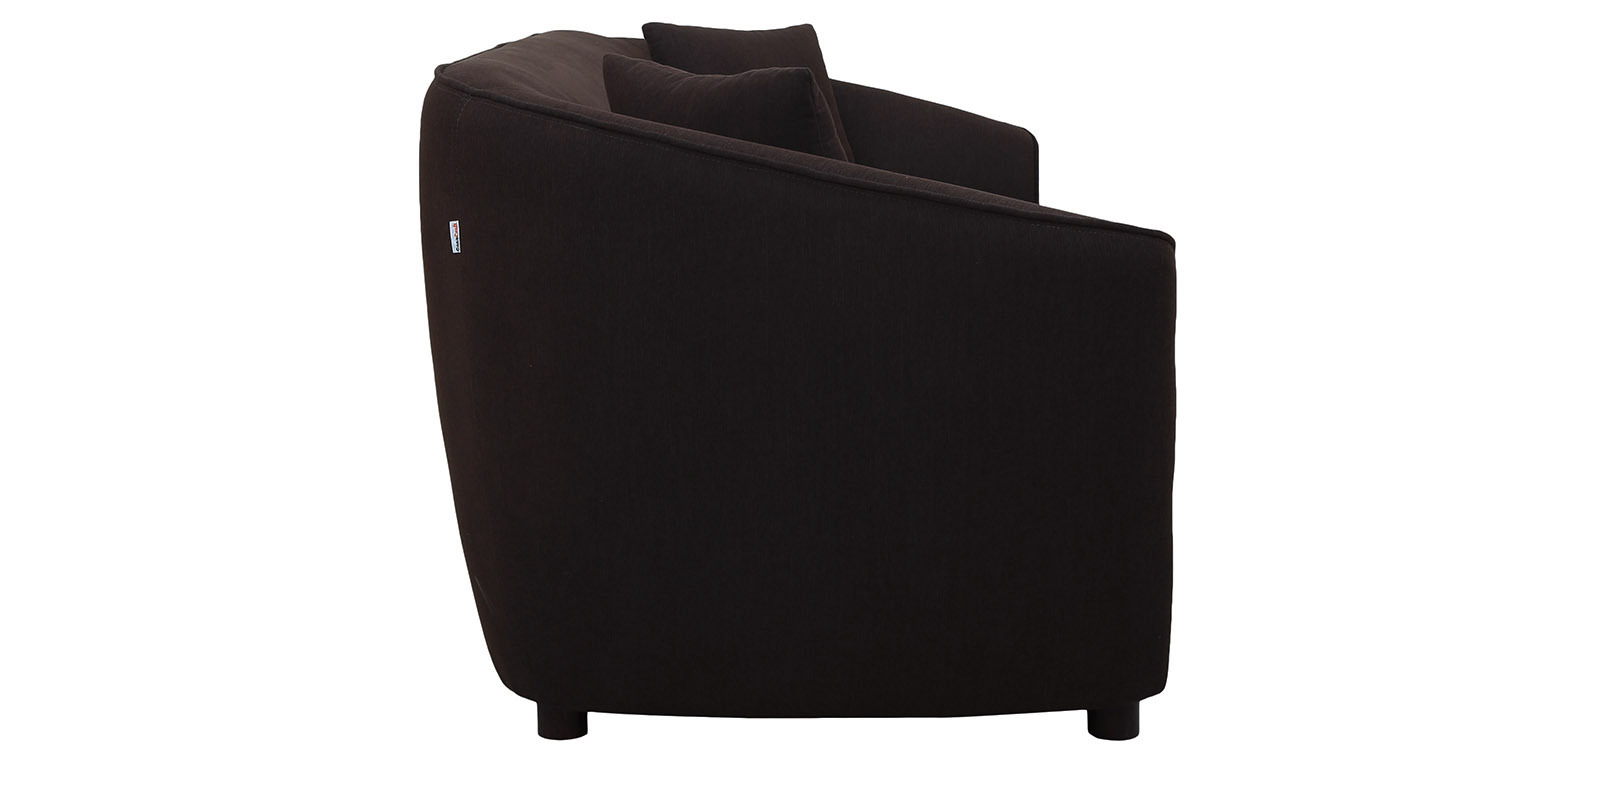Mamore Three Seater Sofa in Chestnut Brown Color by CasaCraft: (421, 14, 1177, 741)
